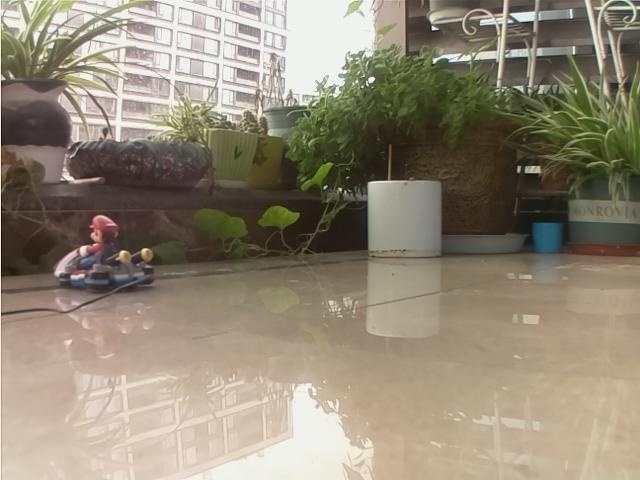mario: (46, 207, 164, 302)
